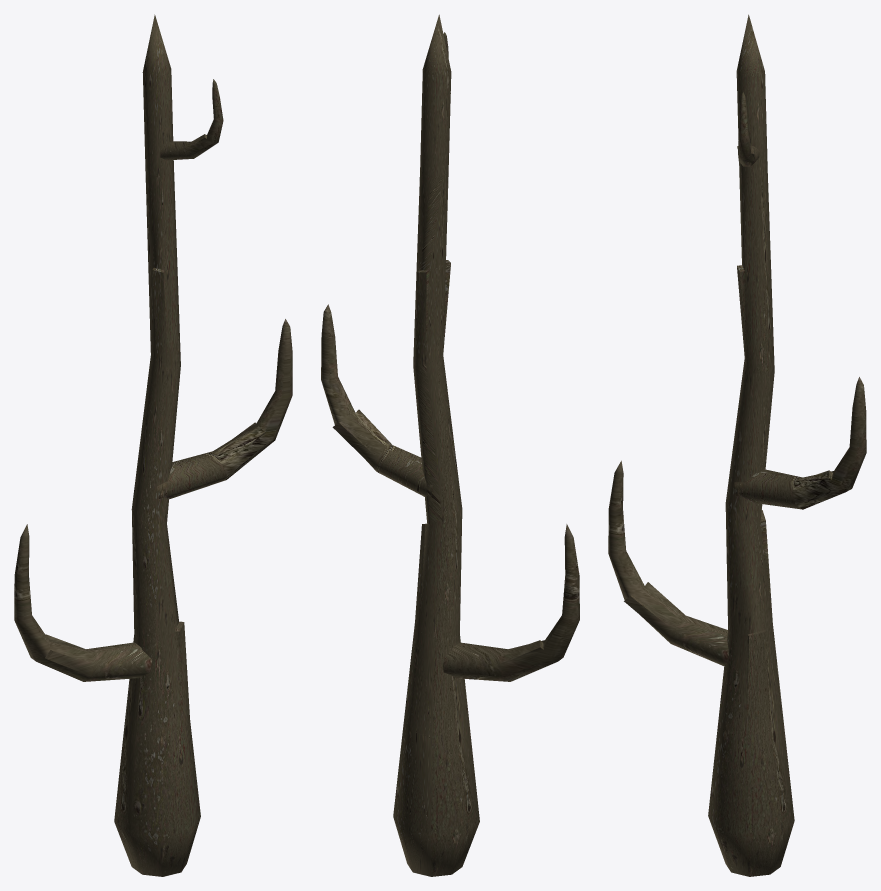
Rendered from forest-snag.glb.
3 renders of one model, left to right at view 1: azimuth 30°, elevation 25°; view 2: azimuth 150°, elevation 25°; view 3: azimuth 330°, elevation 25°, orthographic.
Visible parts, largest first — view 1: Tree_Bare_2_B_Color1; view 2: Tree_Bare_2_B_Color1; view 3: Tree_Bare_2_B_Color1.
Boxes of the visible parts, bbox=[...] form: Tree_Bare_2_B_Color1: bbox=[14, 14, 292, 876]; Tree_Bare_2_B_Color1: bbox=[321, 14, 579, 876]; Tree_Bare_2_B_Color1: bbox=[608, 14, 866, 876].
Size of the model in its own units: 1.79 by 5.54 by 0.6639.
Materials: 1 (1 with a texture image).
